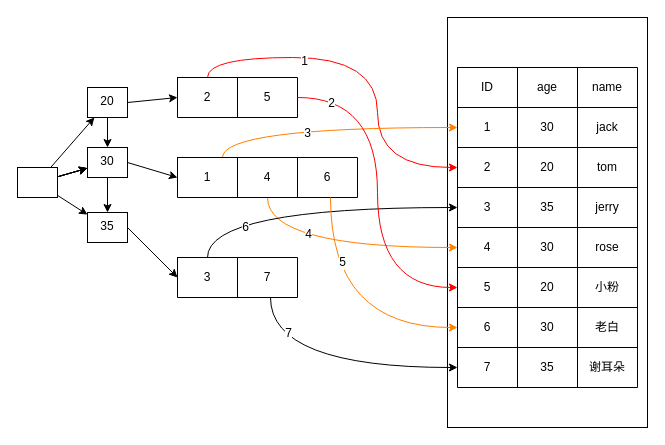
The diagram is 665 pixels wide and 445 high, and some of its shapes have lost their labels. Each missing label, with the box of its shape:
root: (16, 166, 58, 198)
磁盘数据: (446, 16, 648, 428)
